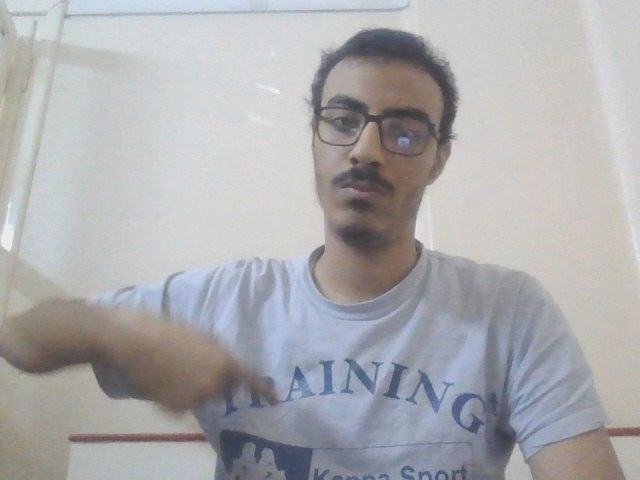Me: (86, 290, 294, 422)
